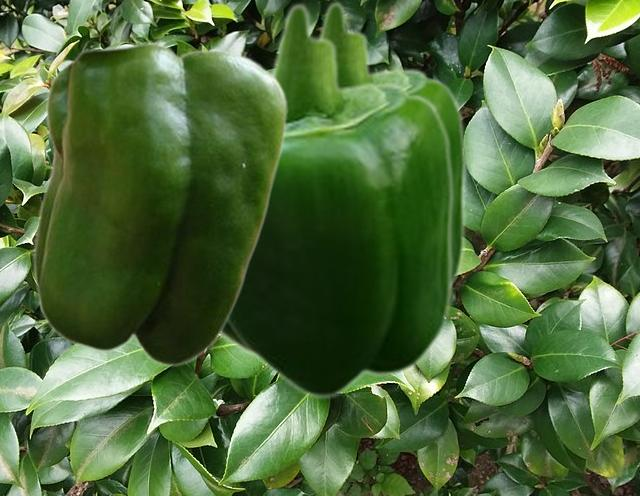bell_pepper: (220, 1, 454, 400), (32, 41, 288, 366), (315, 0, 466, 286)
